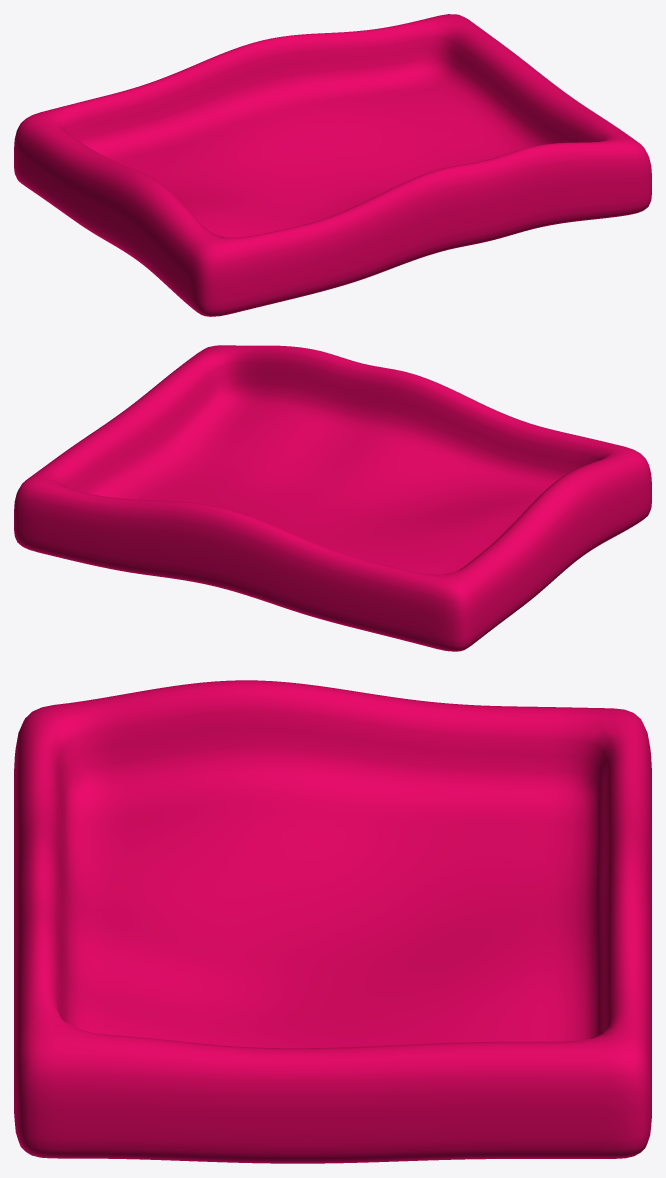
Rendered from start.glb.
3 views of the same model, one above another, from view 1: azimuth 30°, elevation 25°; view 2: azimuth 150°, elevation 25°; view 3: azimuth 270°, elevation 25° (orthographic). The views are drawn at different scales.
Parts seen in each view (by area): view 1: Cube; view 2: Cube; view 3: Cube.
Part boxes in pixels (x1,y1,x2,y2): Cube: [14, 14, 651, 316]; Cube: [14, 345, 651, 651]; Cube: [14, 680, 651, 1163].
Bounding box in the file's own units: 39.46 × 8.06 × 29.46.
